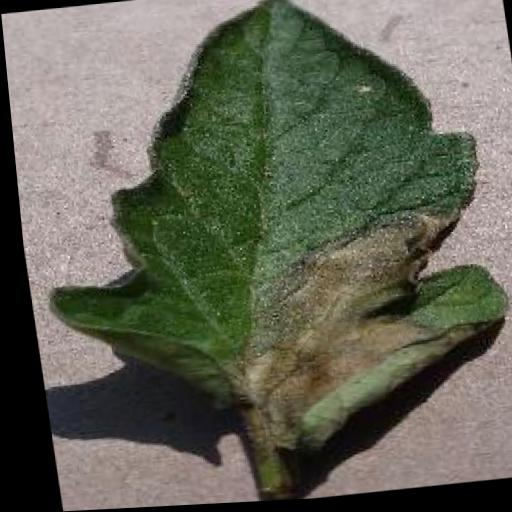Late Blight: (2, 0, 512, 512)
